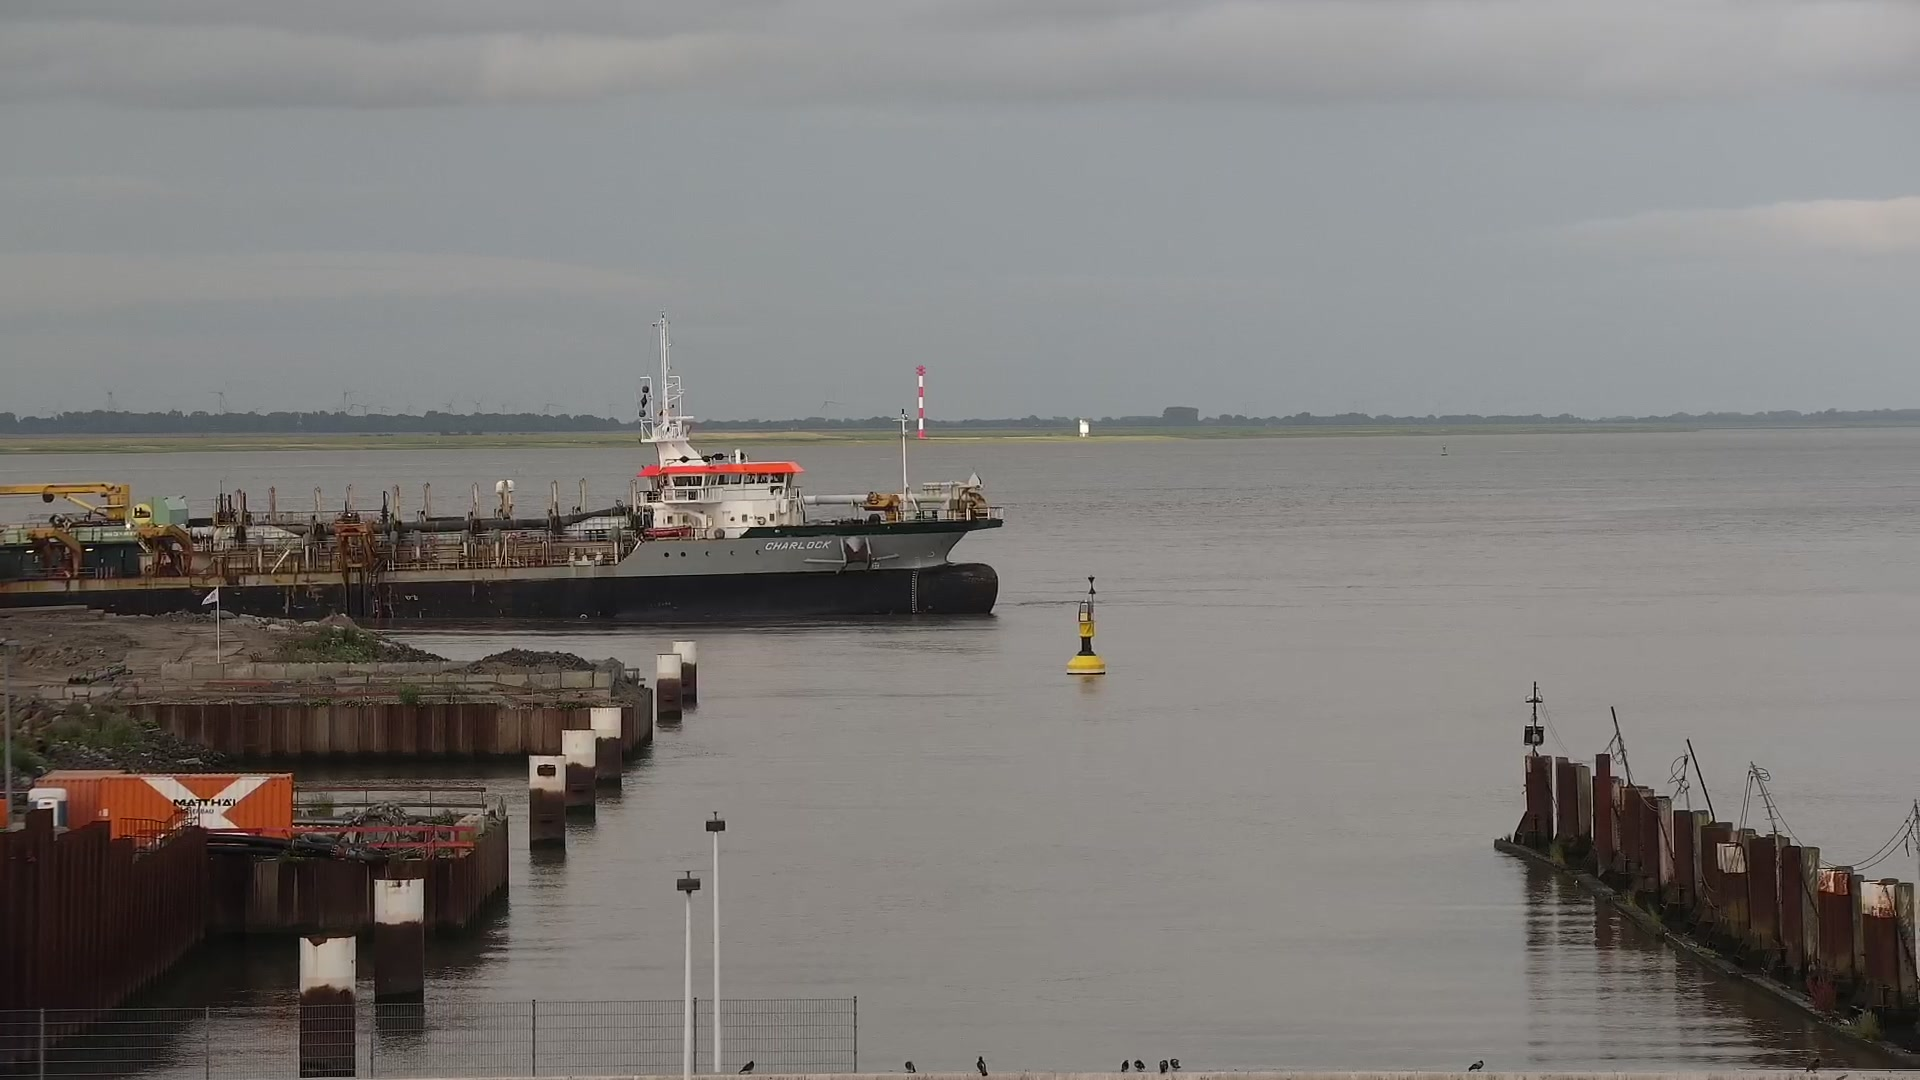sea: (1, 307, 1004, 616)
